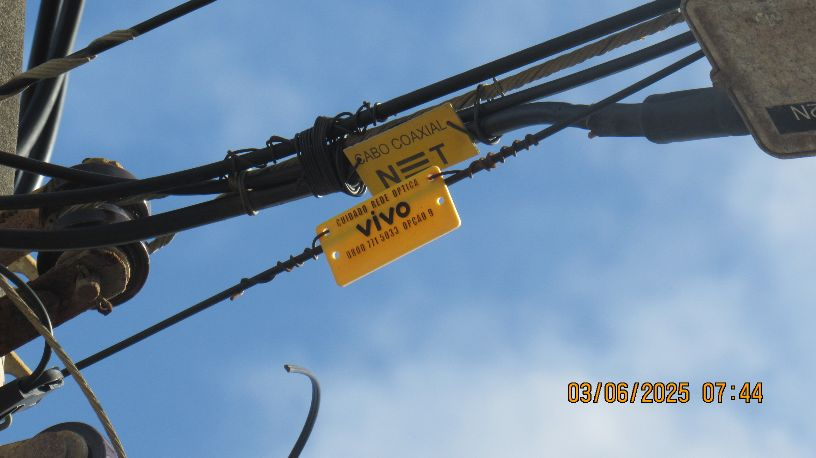fibra_optica: (330, 0, 816, 197), (303, 228, 464, 307)
